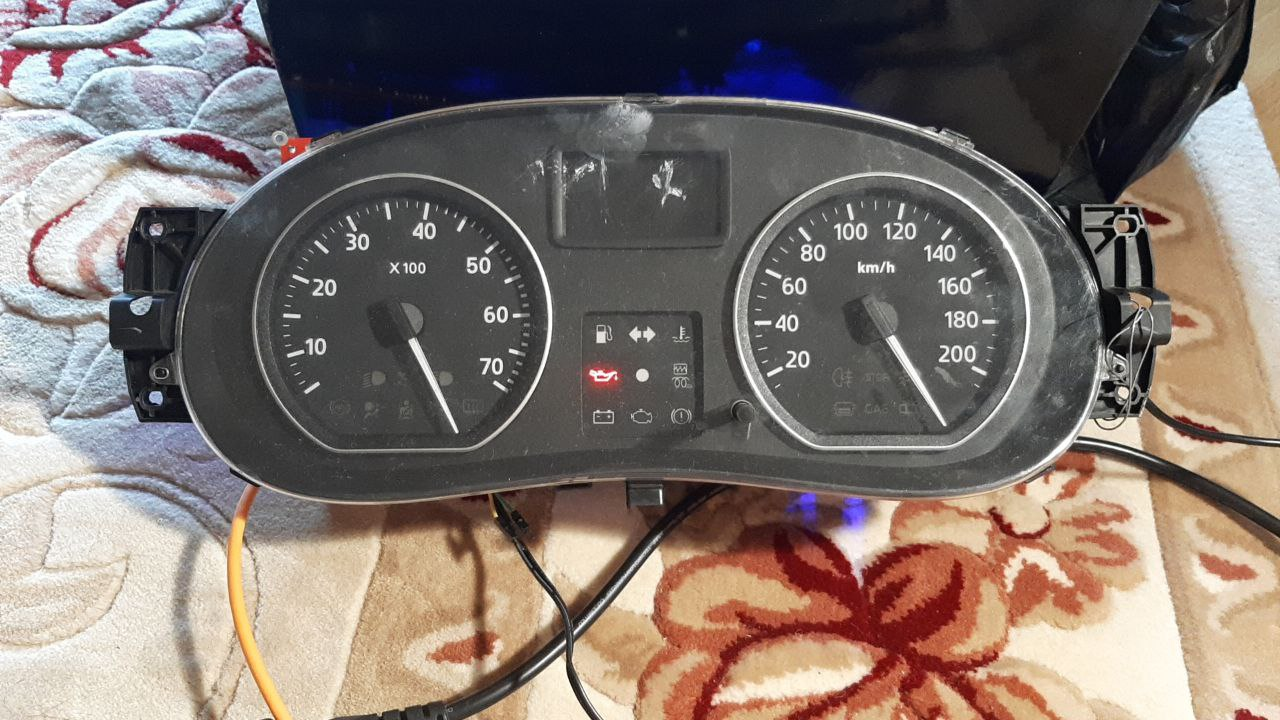oil: (585, 360, 619, 386)
